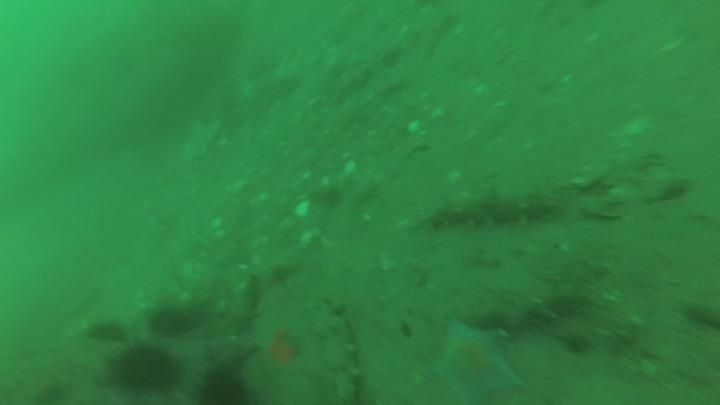echinus: (110, 343, 181, 397), (195, 367, 251, 404), (147, 304, 196, 341), (84, 317, 128, 346)
holothurian: (421, 185, 559, 234), (309, 298, 363, 405)
scallop: (579, 192, 627, 222)
starfish: (424, 316, 525, 405), (202, 334, 259, 376), (259, 327, 305, 375)
